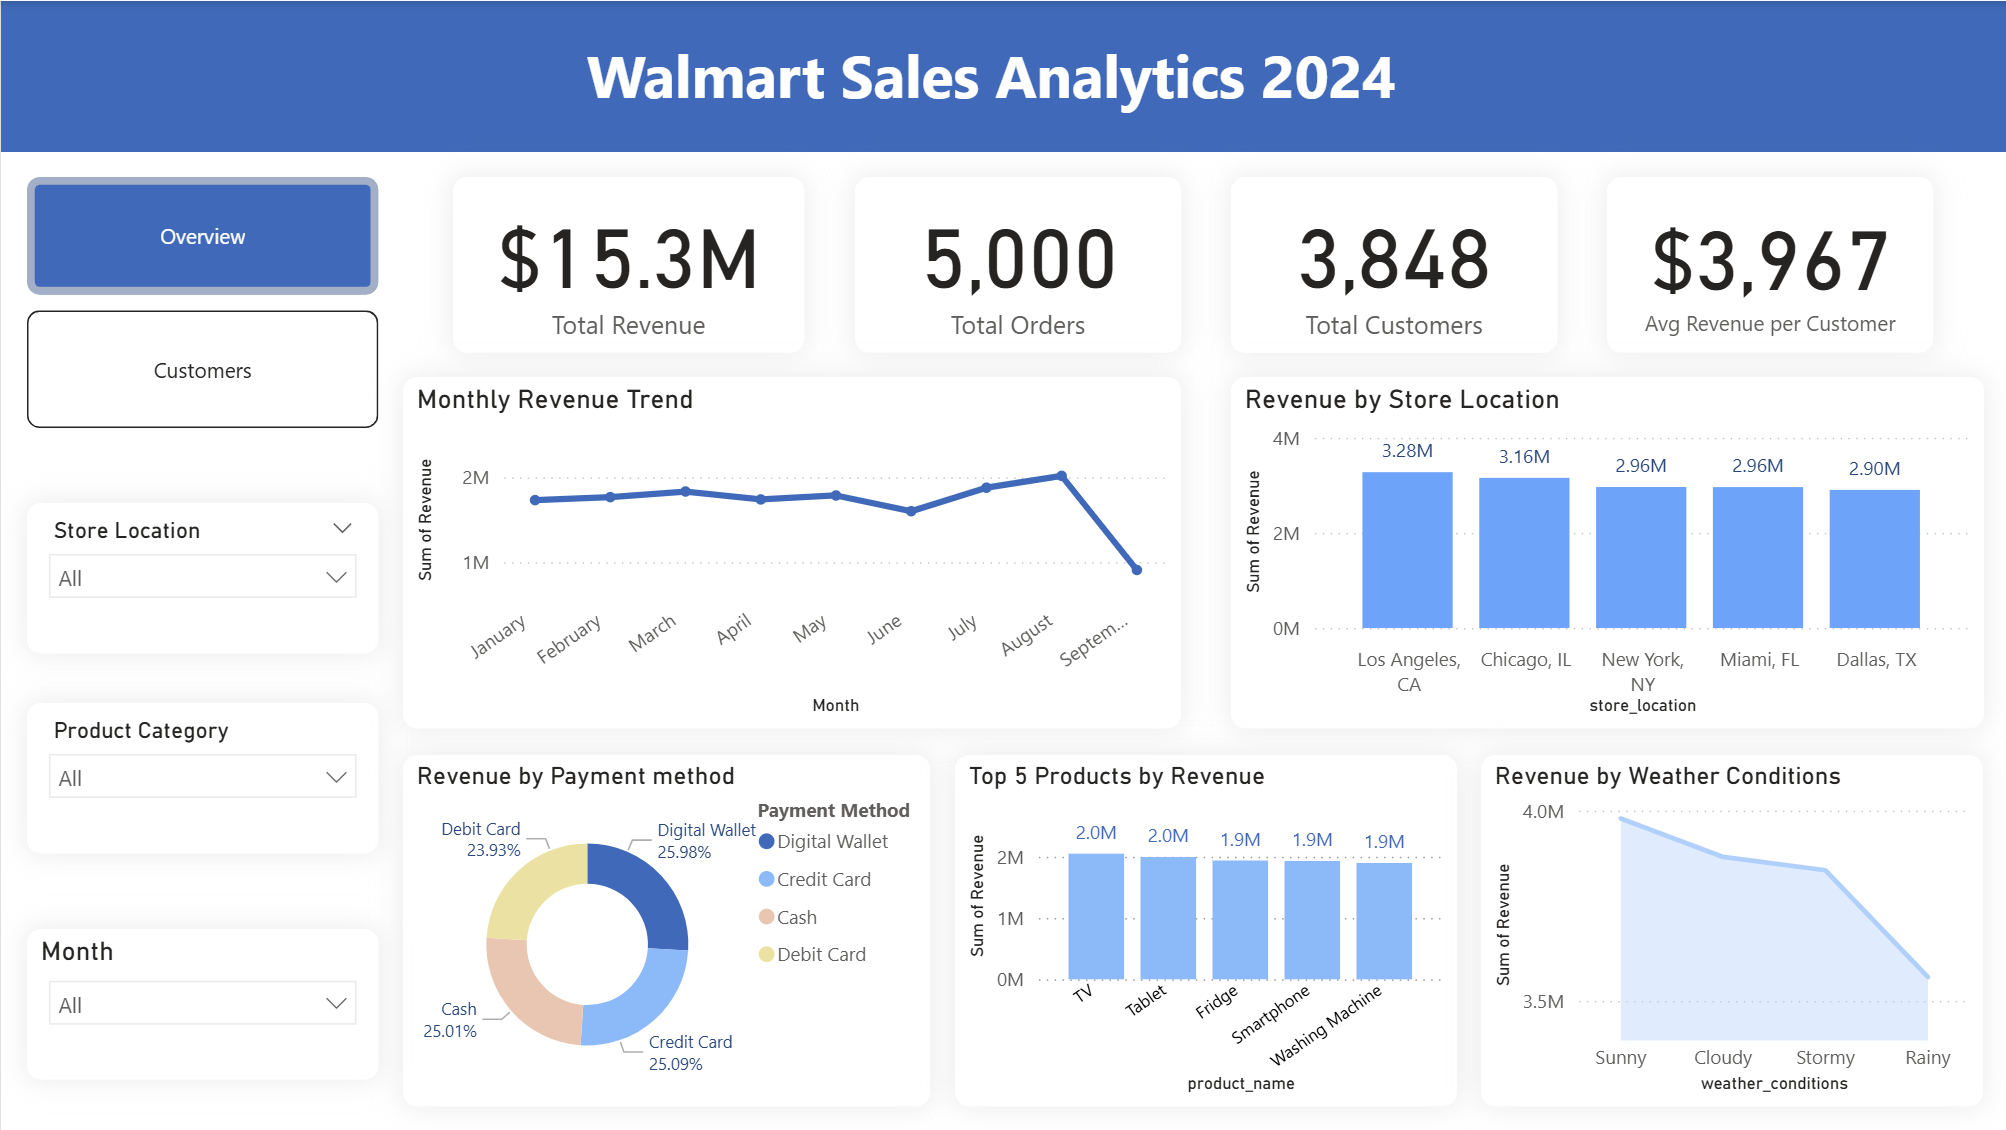

What the dashboard file says about the page in this screenshot:
{"tool":"powerbi","page":{"name":"Overview","canvas":[1280,720],"ordinal":0},"visuals":[{"type":"shape","box":[0,0,1280,96.2],"z":0},{"type":"textbox","box":[368,16,688,64],"z":1000},{"type":"card","fields":{"Values":["Walmart.Avg Revenue per Customer"]},"box":[1024,112,208,112],"z":2000},{"type":"card","fields":{"Values":["Walmart.Total Orders"]},"box":[544,112,208,112],"z":3000},{"type":"card","fields":{"Values":["Walmart.Total Customers"]},"box":[784,112,208,112],"z":4000},{"type":"card","fields":{"Values":["Walmart.Total Revenue"]},"box":[288,112,224,112],"z":5000},{"type":"slicer","fields":{"Values":["Walmart.store_location"]},"box":[16,320,224,96],"z":6000},{"type":"slicer","fields":{"Values":["Walmart.category"]},"box":[16,448,224,96],"z":7000},{"type":"columnChart","title":"Revenue by Store Location","fields":{"Category":["Walmart.store_location"],"Y":["Sum(Walmart.Revenue)"]},"box":[784,240,480,224],"z":9000},{"type":"donutChart","title":"Revenue by Payment method","fields":{"Category":["Walmart.payment_method"],"Y":["Sum(Walmart.Revenue)"]},"box":[256,480,336,224],"z":9500},{"type":"slicer","title":"Month","fields":{"Values":["Walmart.transaction_date.Variation.Date Hierarchy.Month"]},"box":[16,592,224,96],"z":10000},{"type":"clusteredColumnChart","title":"Top 5 Products by Revenue","fields":{"Category":["Walmart.product_name"],"Y":["Sum(Walmart.Revenue)"]},"box":[608,480,320,224],"z":11000},{"type":"pageNavigator","box":[16,112,224,160],"z":12000},{"type":"areaChart","title":"Revenue by Weather Conditions","fields":{"Category":["Walmart.weather_conditions"],"Y":["Sum(Walmart.Revenue)"]},"box":[944,480,320,224],"z":13000},{"type":"lineChart","title":"Monthly Revenue Trend","fields":{"Category":["Walmart.transaction_date.Variation.Date Hierarchy.Month"],"Y":["Sum(Walmart.Revenue)"]},"box":[256,240,496,224],"z":14001}]}

Visuals, with their boxes in screenshot pixels (x1, y1, x2, y2), scaled from the page's 1280x720 canvas onto the 2006x1130 screenshot:
shape: 0:0:2005:151
textbox: 577:25:1655:126
card - Walmart.Avg Revenue per Customer: 1605:176:1931:352
card - Walmart.Total Orders: 853:176:1179:352
card - Walmart.Total Customers: 1229:176:1555:352
card - Walmart.Total Revenue: 451:176:802:352
slicer - Walmart.store_location: 25:502:376:653
slicer - Walmart.category: 25:703:376:854
"Revenue by Store Location" columnChart: 1229:377:1981:728
"Revenue by Payment method" donutChart: 401:753:928:1105
"Month" slicer: 25:929:376:1080
"Top 5 Products by Revenue" clusteredColumnChart: 953:753:1454:1105
pageNavigator: 25:176:376:427
"Revenue by Weather Conditions" areaChart: 1479:753:1981:1105
"Monthly Revenue Trend" lineChart: 401:377:1179:728
